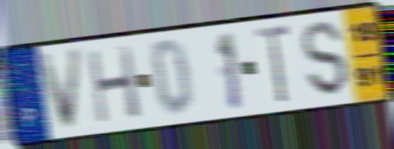0: (150, 37, 194, 119)
1: (213, 28, 247, 111)
H: (85, 44, 144, 126)
S: (300, 20, 351, 99)
T: (253, 22, 292, 107)
V: (36, 45, 86, 134)
